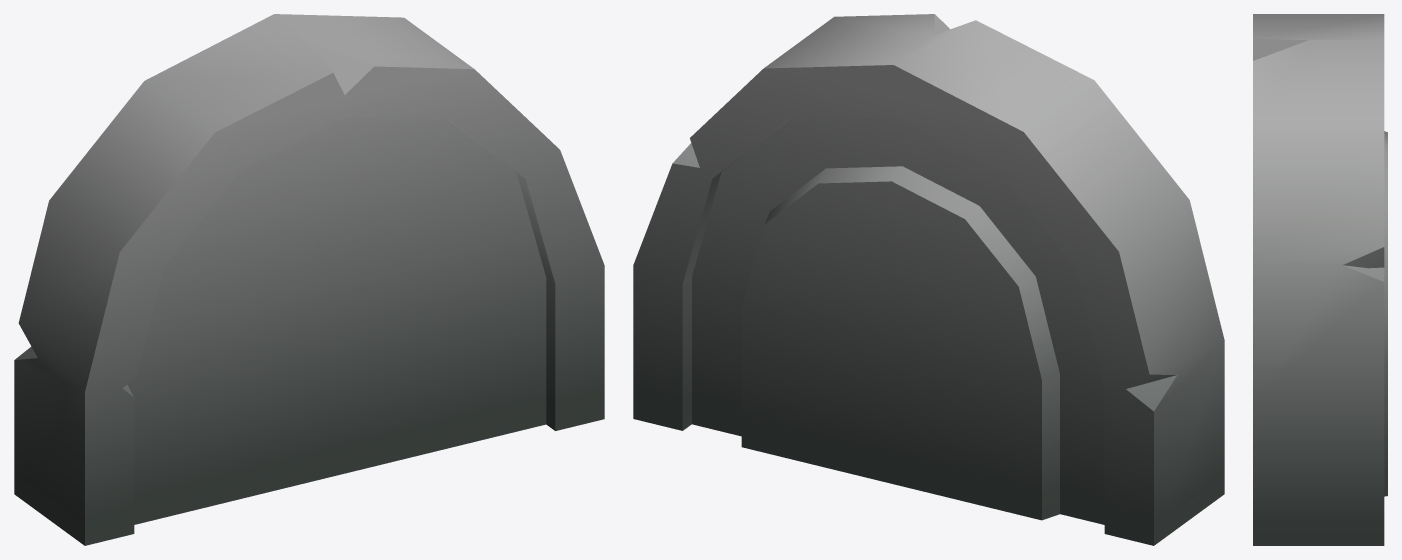
Rendered from Obelisk_stone.fbx.
3 renders of one model, left to right at view 1: azimuth 30°, elevation 25°; view 2: azimuth 150°, elevation 25°; view 3: azimuth 270°, elevation 25°, orthographic. The views are drawn at different scales.
Parts seen in each view (by area): view 1: Stone_obelisk; view 2: Stone_obelisk; view 3: Stone_obelisk.
Boxes of the visible parts, x1=… form: Stone_obelisk: x1=14, y1=14, x2=604, y2=545; Stone_obelisk: x1=633, y1=14, x2=1224, y2=545; Stone_obelisk: x1=1253, y1=14, x2=1387, y2=545.
Bounding box in the file's own units: 0.4494 × 1.43 × 1.86.
